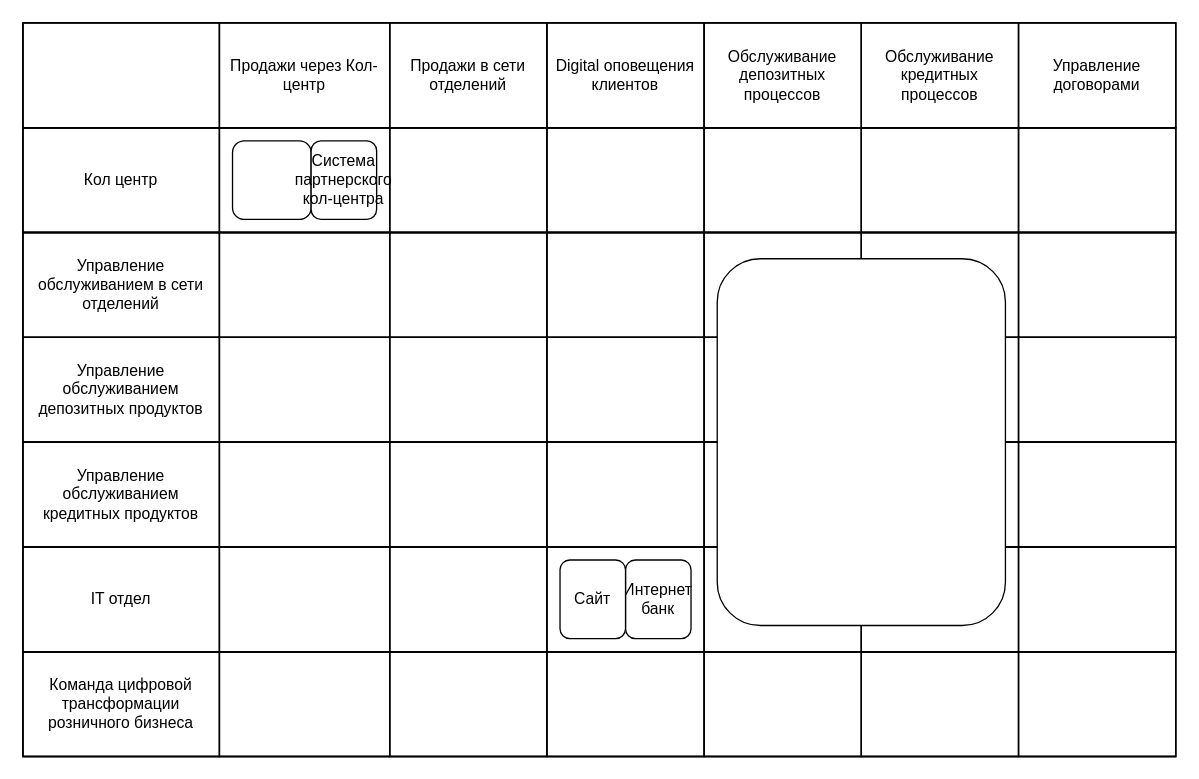
Image size: 1199x779. Some labels were removed from this diagram. Here are the shapes that lost their labels. From the top down, the centre of each, then its label:
At pixel 271 179: "Система кол-центра".
At pixel 860 441: "АБС".
